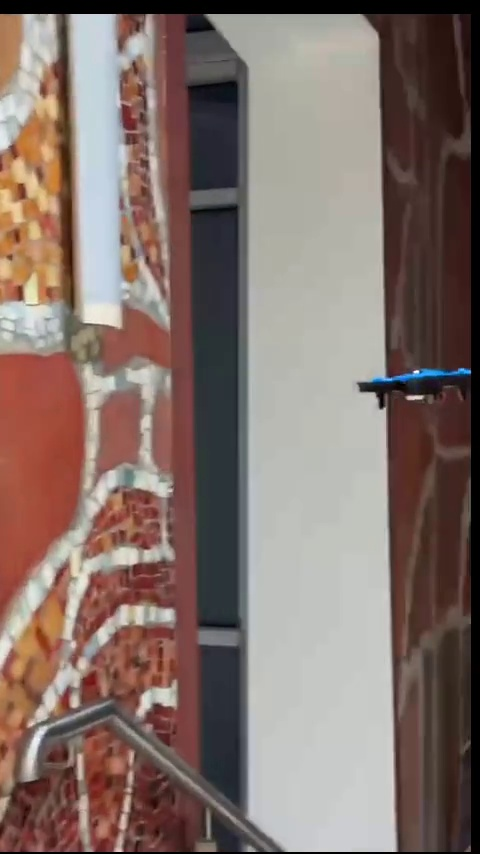drone: (357, 357, 469, 405)
